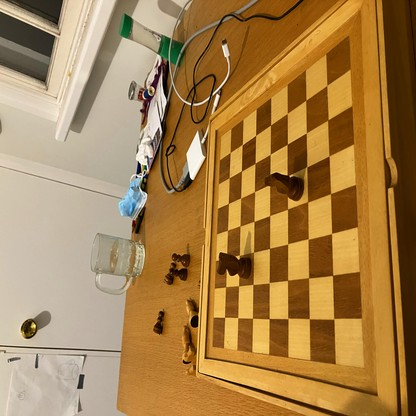bishop_white: (182, 325, 190, 361)
knight_black: (265, 174, 304, 200), (218, 253, 252, 277)
knight_white: (185, 346, 199, 362), (184, 366, 197, 376)
pawn_black: (171, 253, 190, 266), (170, 267, 187, 280), (165, 262, 176, 282), (154, 310, 164, 332)
queen_white: (186, 299, 199, 327)
